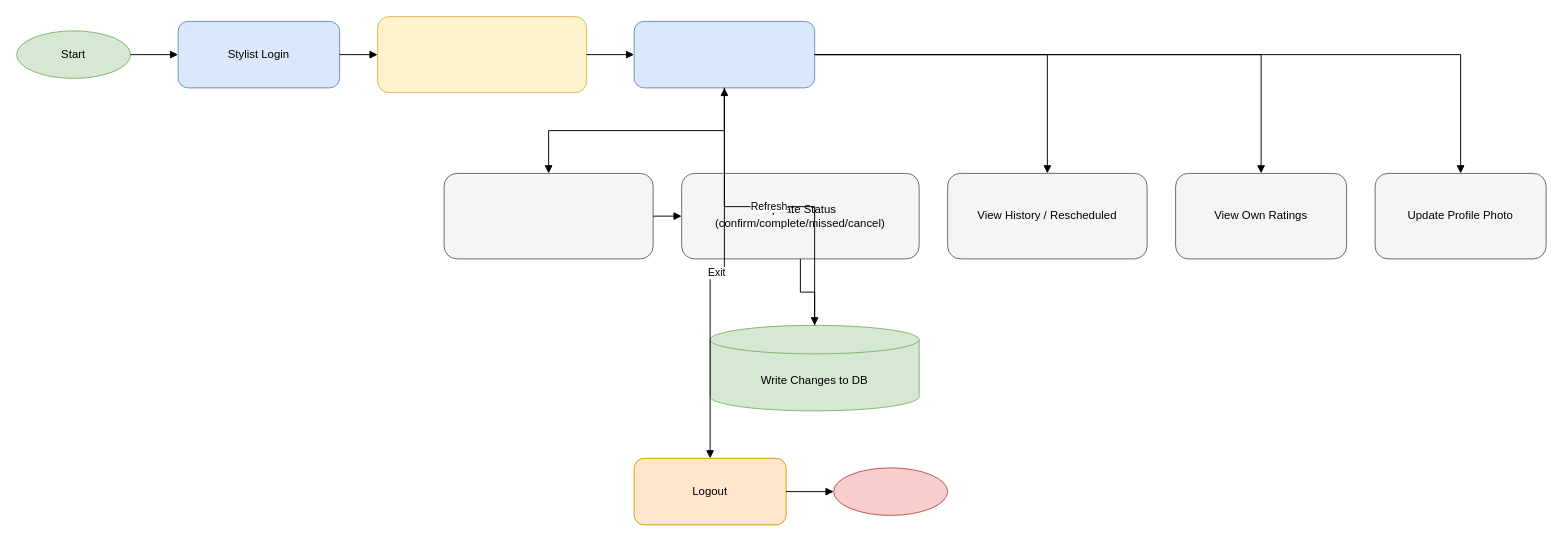
Image size: 1563x542. Some labels were removed from this diagram. The box of each missing label's shape, as (x1, y1, x2, y2) in pixels:
Auth + Role Check (userType:stylist): (377, 16, 587, 93)
End: (833, 467, 948, 515)
Stylist Dashboard: (633, 20, 815, 88)
View Assigned Appointments: (443, 172, 653, 259)
